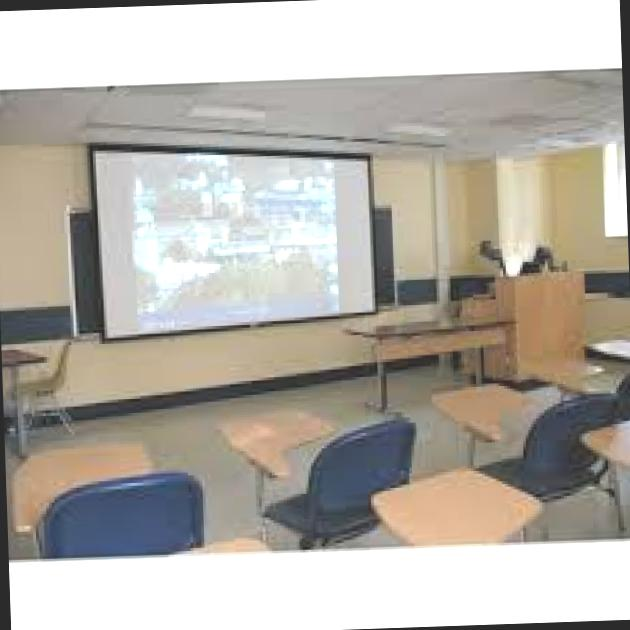chair: (224, 410, 452, 596)
projector: (47, 136, 392, 362)
